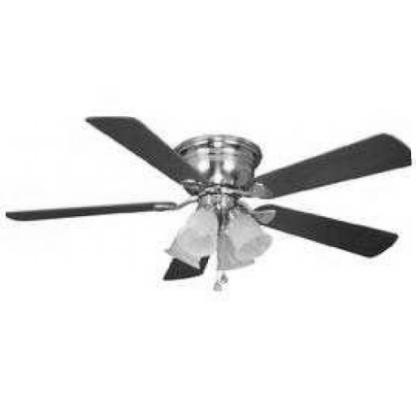ceiling-fan: (6, 116, 412, 284)
